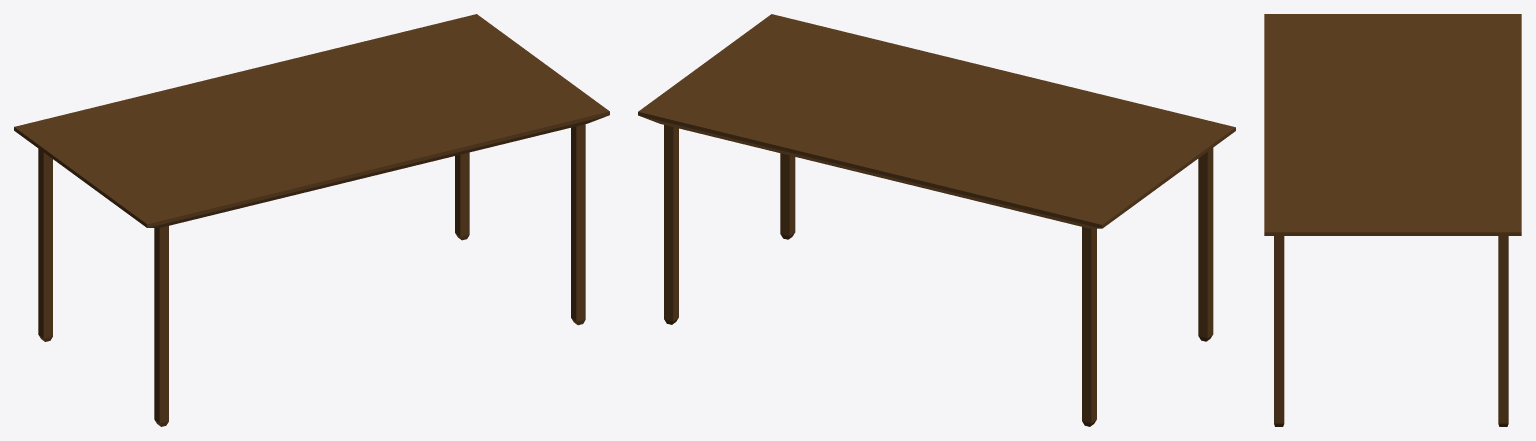
File: Table.fbx
3 views of the same model, side by side, from view 1: azimuth 30°, elevation 25°; view 2: azimuth 150°, elevation 25°; view 3: azimuth 270°, elevation 25° (orthographic). The views are drawn at different scales.
Visible parts, largest first — view 1: Cube, Cube.001; view 2: Cube, Cube.001; view 3: Cube, Cube.001.
Boxes of the visible parts, x1,y1,x2,y2 form: Cube: (14,14,609,227); Cube.001: (38,124,585,426); Cube: (638,14,1235,228); Cube.001: (664,125,1213,426); Cube: (1264,14,1521,235); Cube.001: (1274,236,1508,426).
Size of the model in its own units: 2951 by 1289 by 1470.
